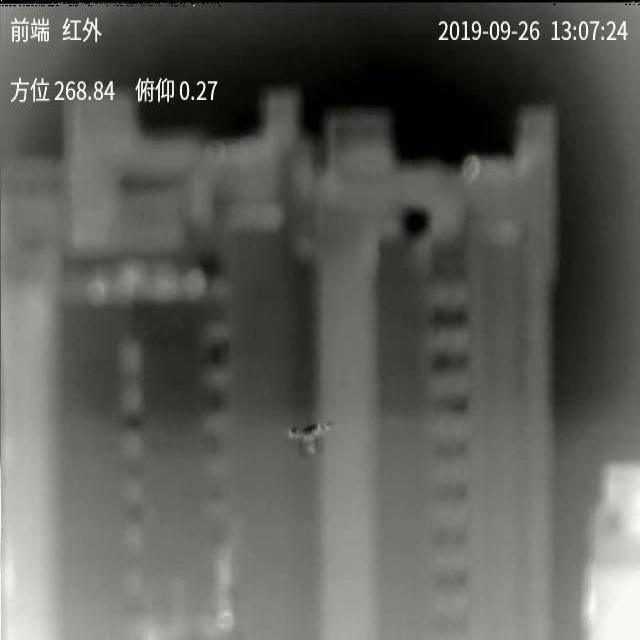drone: (289, 421, 334, 457)
